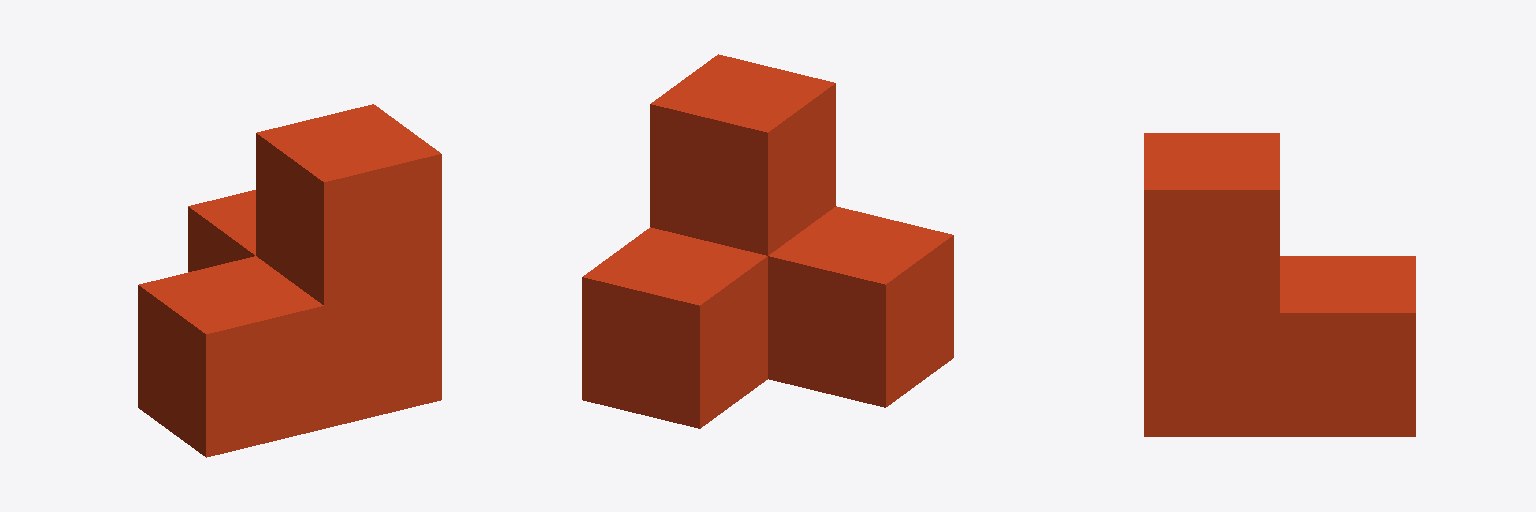
File: E2-Soma-p07.obj
The picture shows the model from 3 angles: view 1: azimuth 30°, elevation 25°; view 2: azimuth 150°, elevation 25°; view 3: azimuth 270°, elevation 25°; orthographic projection.
Visible parts, largest first — view 1: mesh3, mesh2, mesh6, mesh5, mesh1, mesh11, mesh10; view 2: mesh0, mesh8, mesh9, mesh2, mesh6, mesh10, mesh1, mesh5, mesh11; view 3: mesh4, mesh1, mesh11.
Part boxes in pixels (left/top/right/bottom): mesh3: left=206, top=154, right=441, bottom=457; mesh2: left=256, top=133, right=323, bottom=304; mesh6: left=138, top=285, right=205, bottom=456; mesh5: left=139, top=256, right=323, bottom=333; mesh1: left=257, top=104, right=440, bottom=181; mesh11: left=188, top=190, right=255, bottom=255; mesh10: left=188, top=207, right=254, bottom=271; mesh0: left=650, top=104, right=767, bottom=255; mesh8: left=768, top=256, right=885, bottom=407; mesh9: left=582, top=277, right=699, bottom=428; mesh2: left=768, top=83, right=835, bottom=255; mesh6: left=886, top=235, right=953, bottom=406; mesh10: left=700, top=256, right=767, bottom=428; mesh1: left=651, top=54, right=834, bottom=132; mesh5: left=769, top=206, right=952, bottom=284; mesh11: left=583, top=227, right=766, bottom=305; mesh4: left=1144, top=190, right=1415, bottom=436; mesh1: left=1144, top=133, right=1279, bottom=189; mesh11: left=1280, top=256, right=1415, bottom=312.
Size of the model in its own units: 0.036 by 0.036 by 0.036.